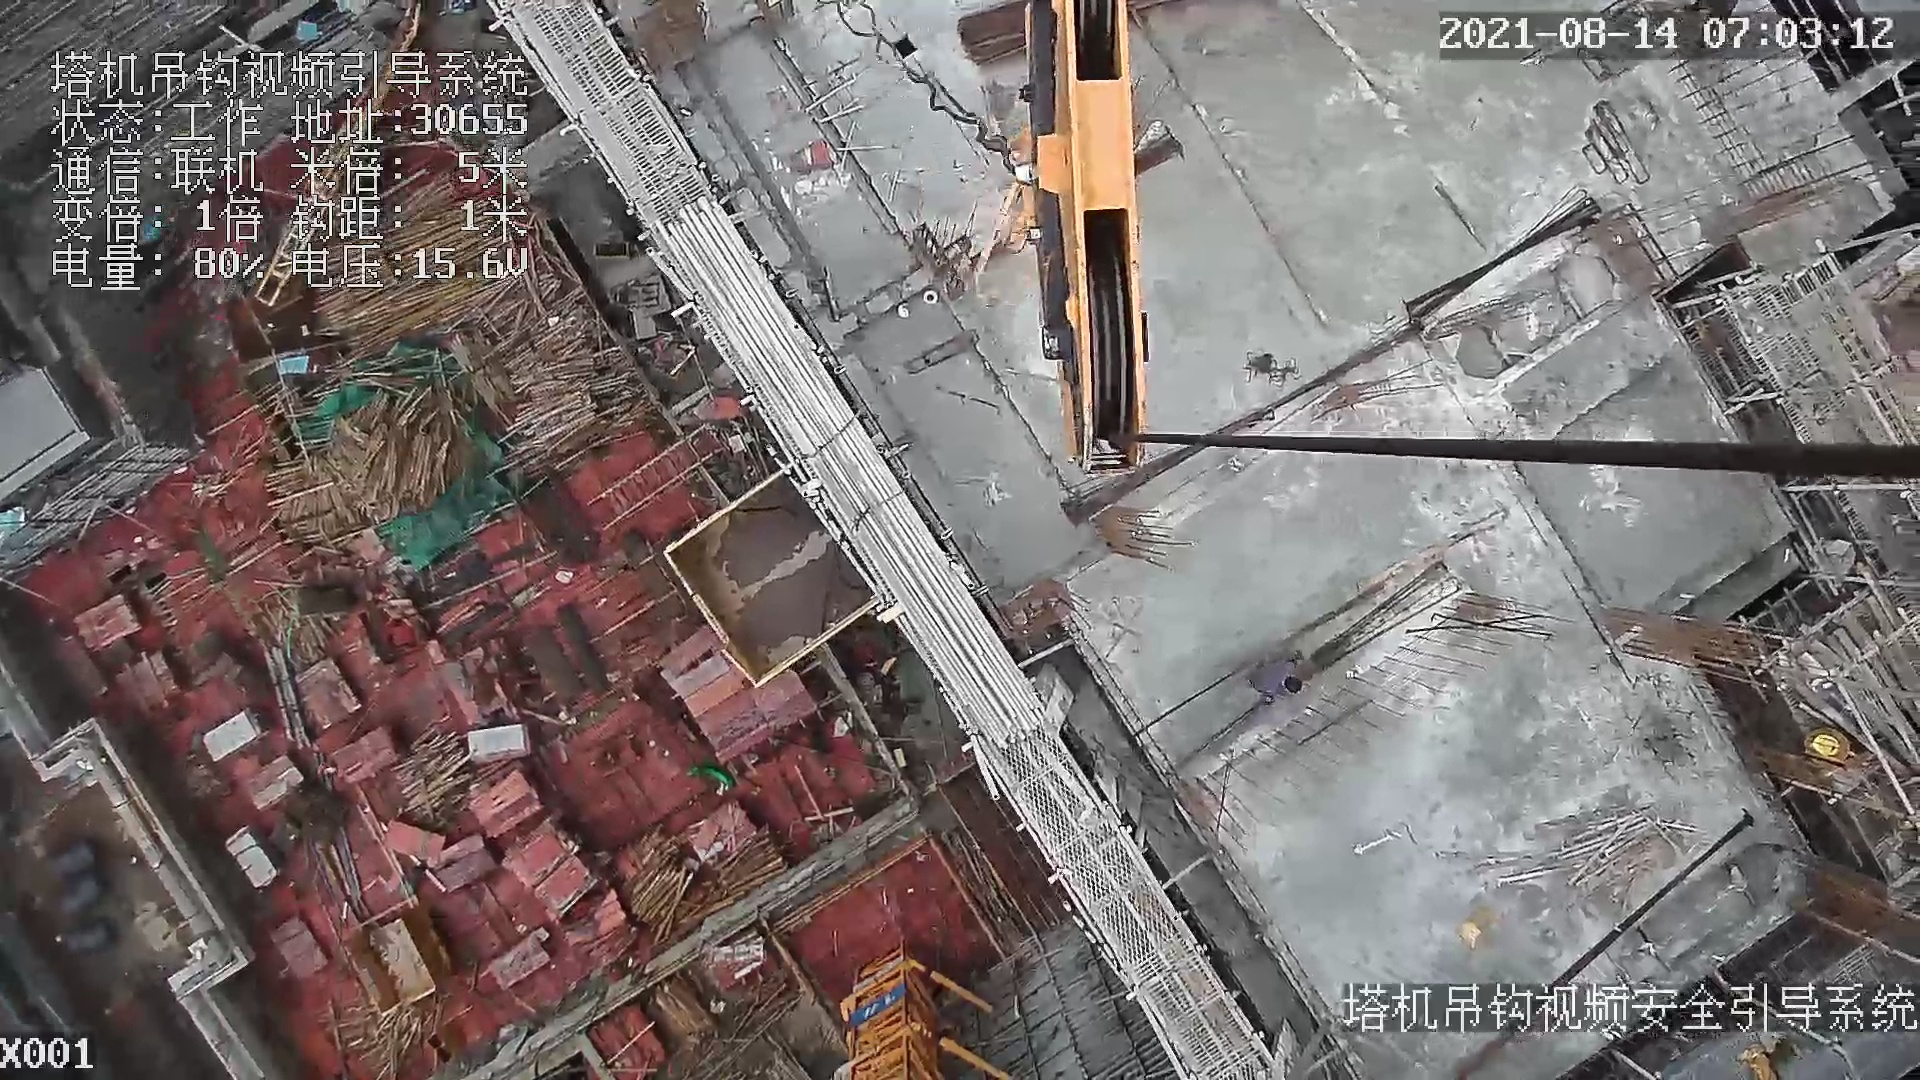hook: (992, 3, 1151, 473)
person: (1244, 653, 1305, 704)
slogan: (848, 978, 912, 1022)
